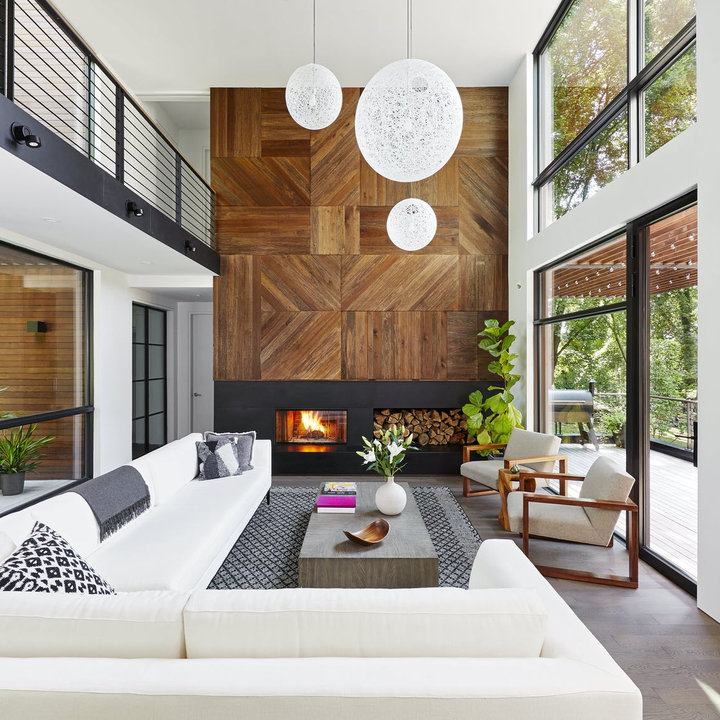chair: (500, 454, 648, 593), (454, 426, 574, 501)
flower vase: (354, 426, 421, 517)
large plant: (460, 314, 525, 454)
small plant: (0, 420, 54, 497)
sofa: (0, 428, 646, 720)
table: (294, 475, 442, 588)
